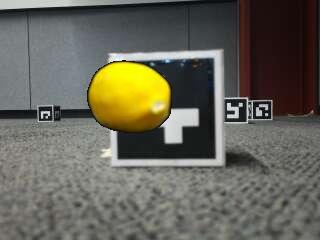lemon: (91, 63, 172, 134)
